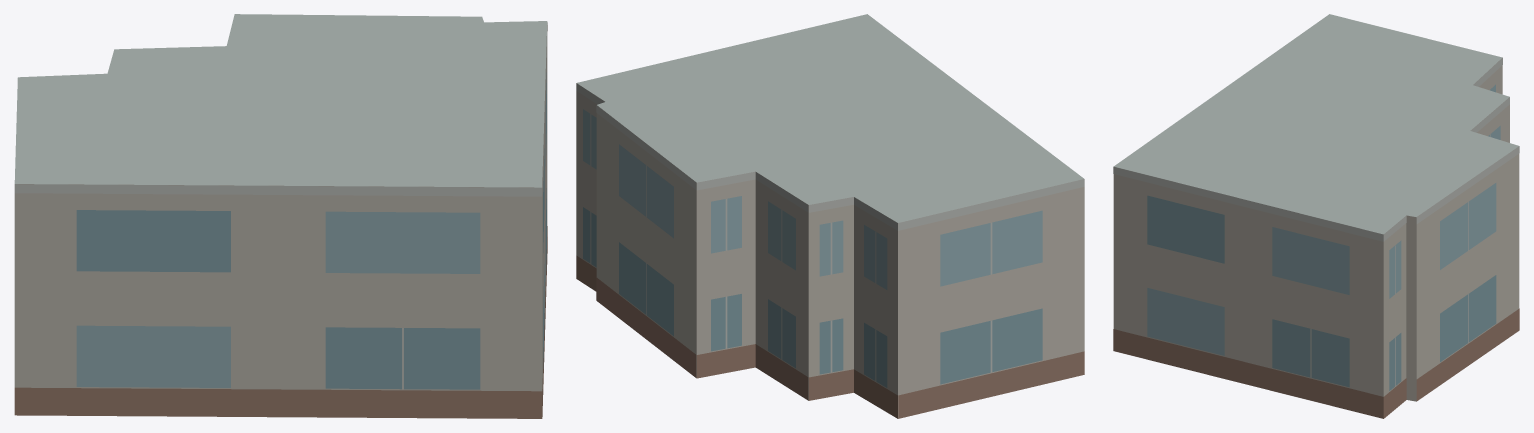
The model's file is survey-upis-32877869.glb.
3 renders of one model, left to right at view 1: azimuth 30°, elevation 25°; view 2: azimuth 150°, elevation 25°; view 3: azimuth 270°, elevation 25°, orthographic. The views are drawn at different scales.
Visible parts, largest first — view 1: survey-upis-32877869.tmp; view 2: survey-upis-32877869.tmp; view 3: survey-upis-32877869.tmp.
Part boxes in pixels (bbox=[...]): survey-upis-32877869.tmp: bbox=[14, 14, 547, 418]; survey-upis-32877869.tmp: bbox=[576, 14, 1084, 418]; survey-upis-32877869.tmp: bbox=[1113, 14, 1519, 418].
Bounding box in the file's own units: 15.64 × 6.1 × 12.18.
